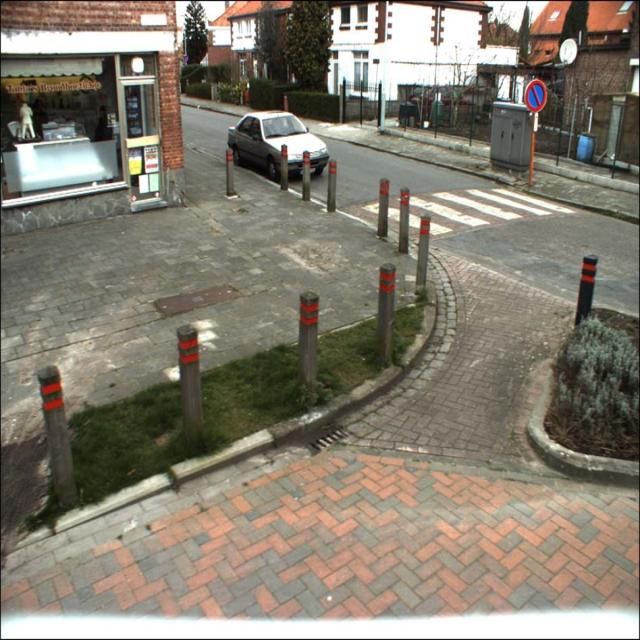parkyasak: (526, 80, 547, 109)
